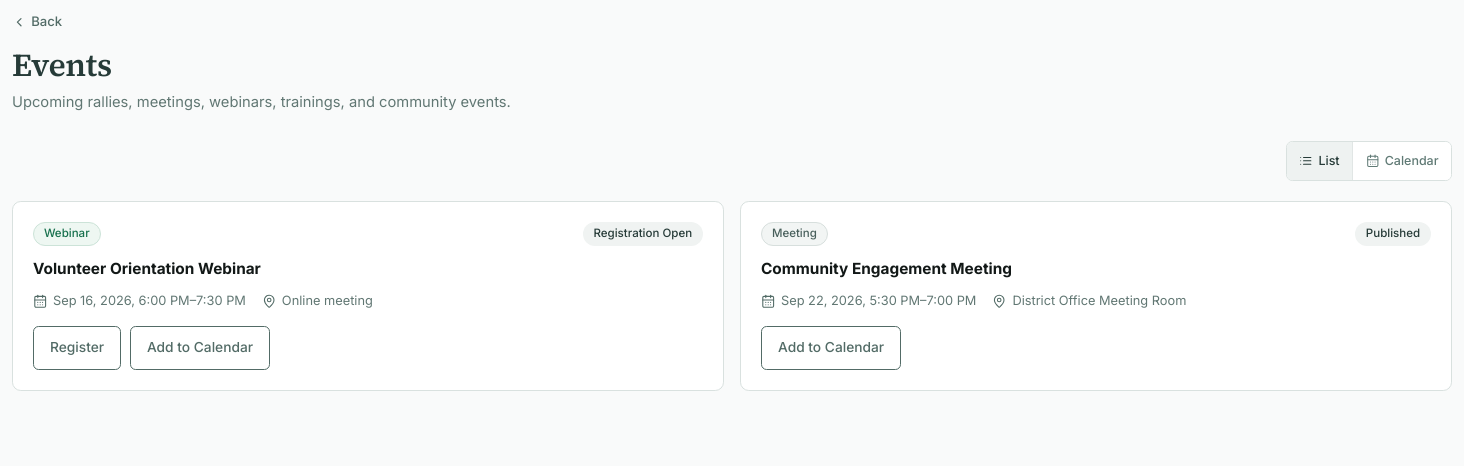
Test case: Events › shows a retryable registration error without hiding events
Expected: the element "Volunteer Orientation Webinar" is shown, [12,201,724,391]
Click the button "Register": [77, 348] box [33,326,121,370]
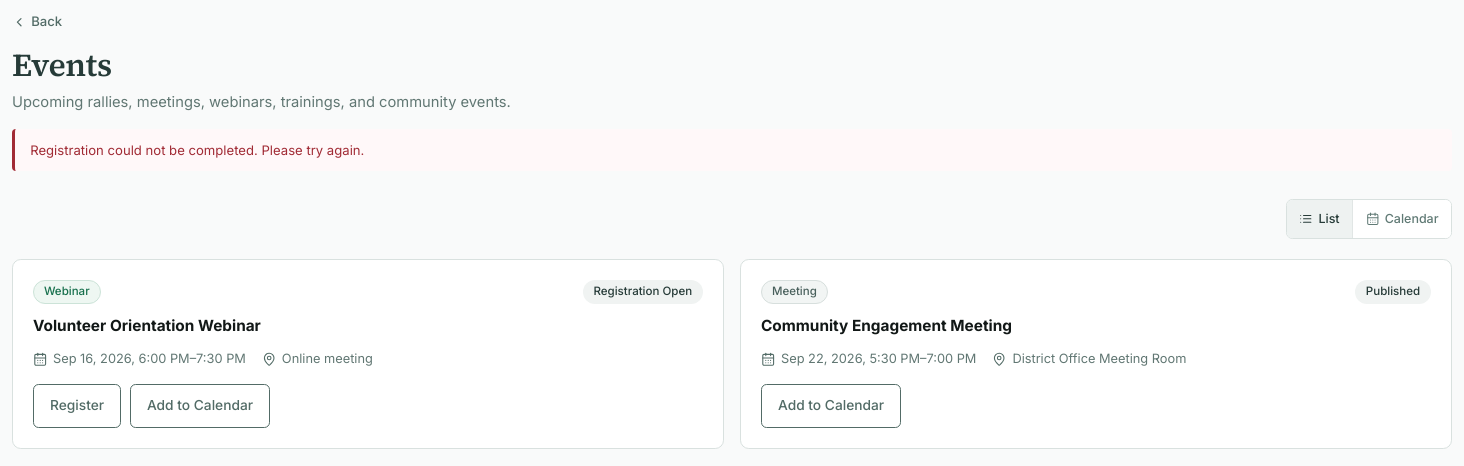
Expected: the button "Register" is enabled, [33,384,121,428]
Expected: the message reads "Registration could not be completed. Please try again.", [30,142,364,158]
